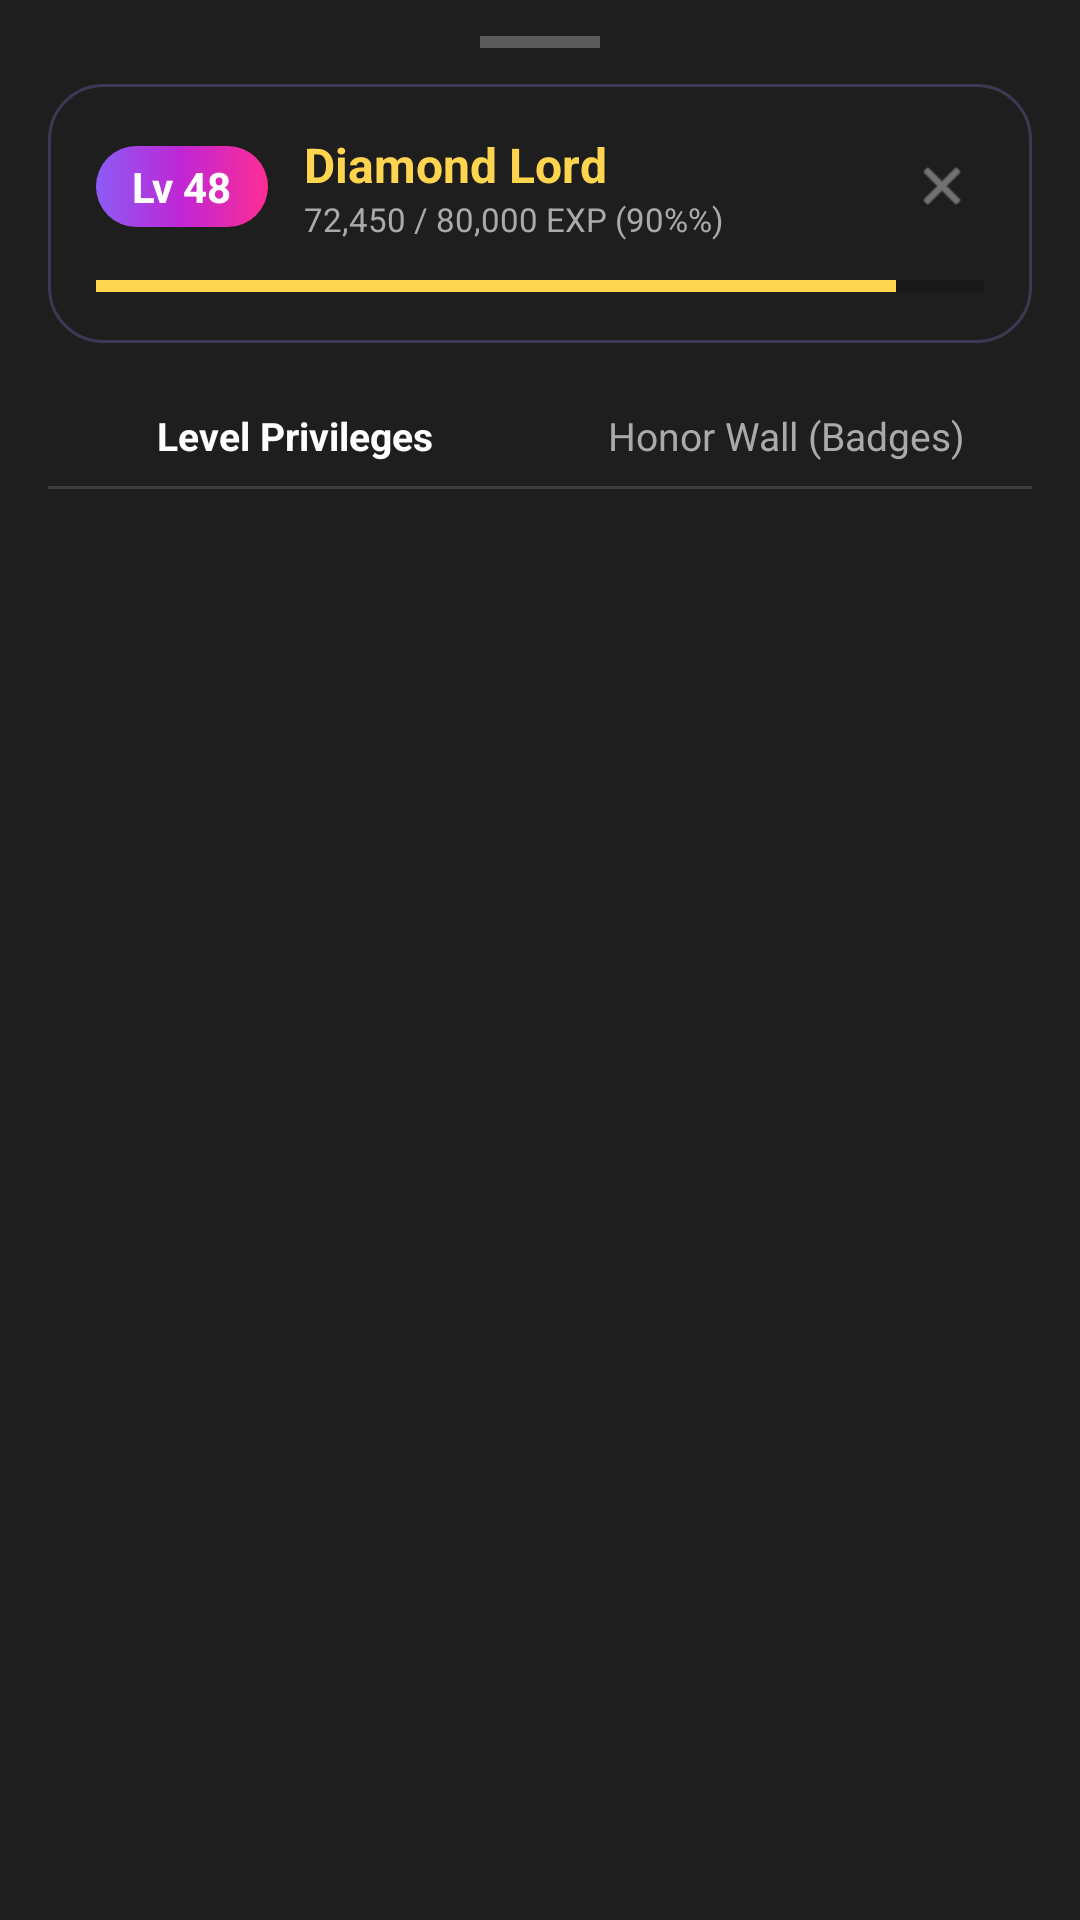

Screen size 1080 × 1920. Icon name, then its box in pixels as (x1=x1, y1=y1, x2=x2, y2=y2):
Close: (x1=923, y1=167, x2=961, y2=205)
